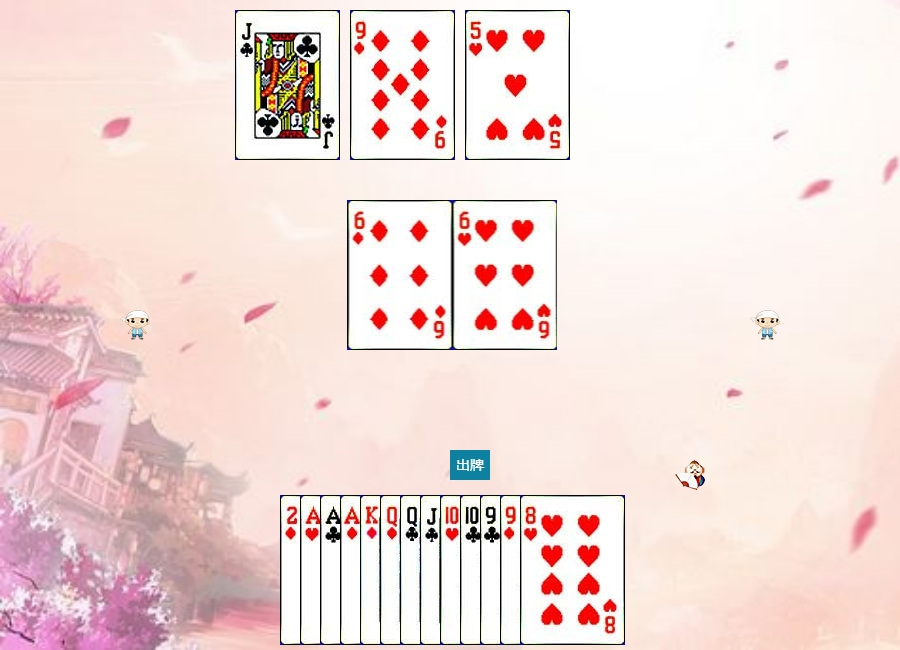10~2: (460, 495, 565, 645)
10~3: (440, 495, 545, 645)
11~2: (235, 10, 340, 160), (420, 495, 525, 645)
12~1: (380, 495, 485, 645)
12~2: (400, 495, 505, 645)
13~1: (360, 495, 465, 645)
14~1: (340, 495, 445, 645)
14~2: (320, 495, 425, 645)
14~3: (300, 495, 405, 645)
15~1: (280, 495, 385, 645)
5~3: (465, 10, 570, 160)
6~1: (348, 200, 453, 350)
6~3: (453, 200, 558, 350)
8~3: (520, 495, 625, 645)
9~1: (350, 10, 455, 160), (500, 495, 605, 645)
9~2: (480, 495, 585, 645)
